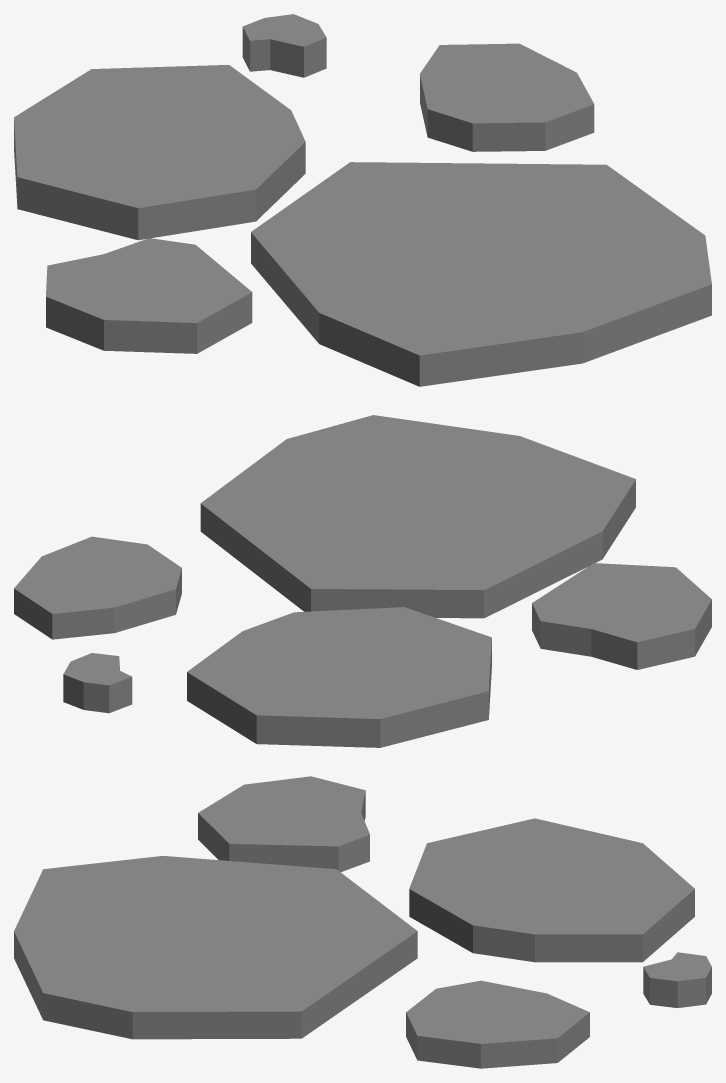
File: SteppingStone_Onai.glb
3 renders of one model, top to bottom at view 1: azimuth 30°, elevation 25°; view 2: azimuth 150°, elevation 25°; view 3: azimuth 270°, elevation 25°, orthographic. The views are drawn at different scales.
Parts seen in each view (by area): view 1: Cube; view 2: Cube; view 3: Cube.
Boxes of the visible parts, x1=… form: Cube: x1=14, y1=14, x2=711, y2=386; Cube: x1=14, y1=415, x2=711, y2=747; Cube: x1=14, y1=776, x2=711, y2=1068.
Bounding box in the file's own units: 4.3 × 0.2095 × 4.76.
1 material, 1 textured.
